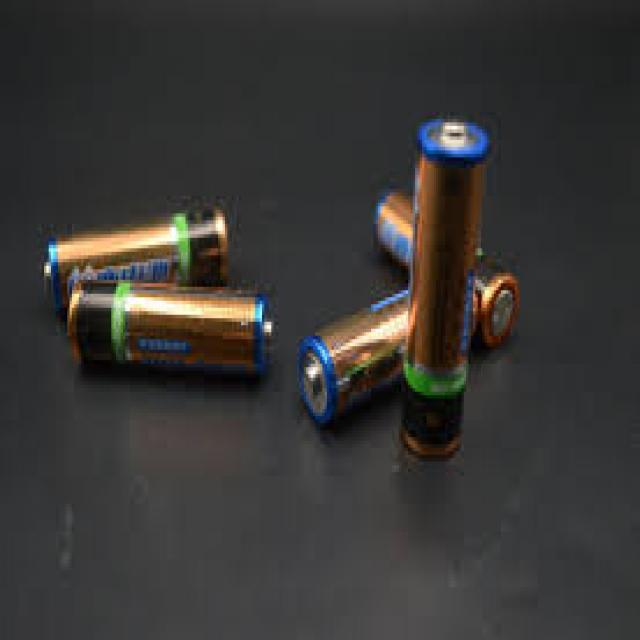non-organic waste: (399, 115, 485, 464), (370, 185, 520, 347), (69, 276, 272, 384), (41, 203, 228, 315), (296, 286, 409, 428)
